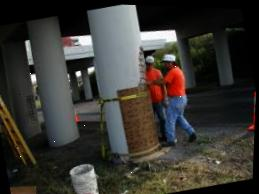spalling: (138, 45, 146, 84), (26, 94, 37, 122)
